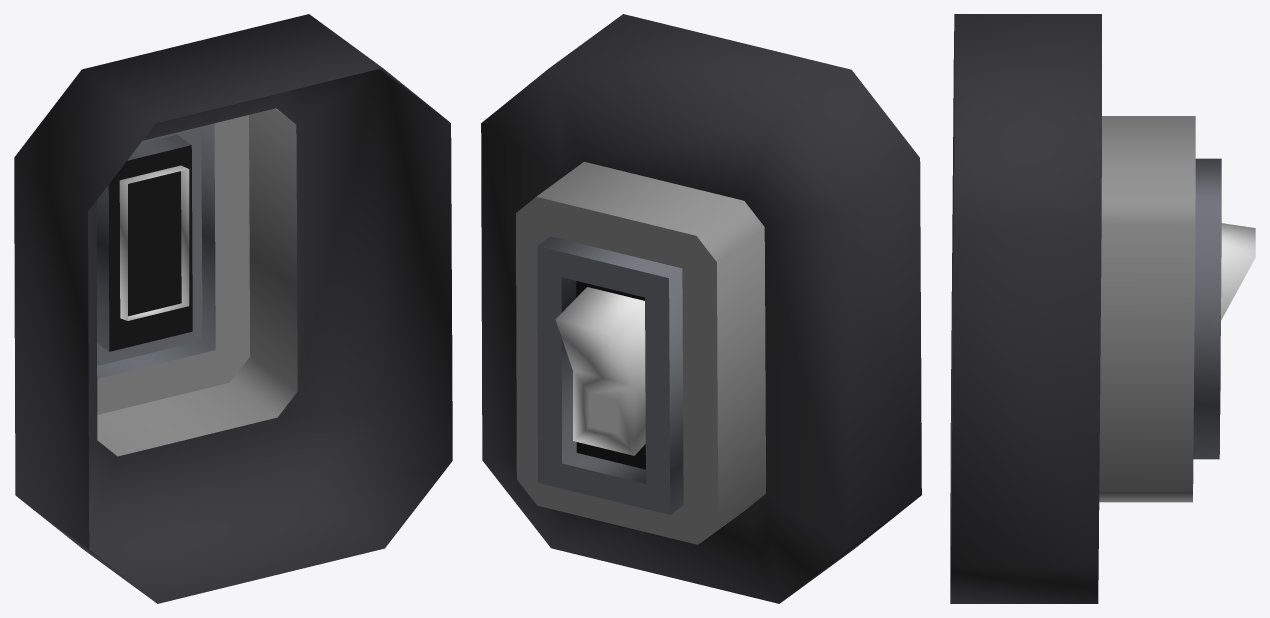
The model's file is LightSwitch.fbx.
The picture shows the model from 3 angles, left to right: view 1: azimuth 30°, elevation 25°; view 2: azimuth 150°, elevation 25°; view 3: azimuth 270°, elevation 25°; orthographic projection.
Parts seen in each view (by area): view 1: LightSwitch; view 2: LightSwitch; view 3: LightSwitch.
Boxes of the visible parts, bbox=[...] form: LightSwitch: bbox=[14, 14, 452, 603]; LightSwitch: bbox=[481, 14, 921, 603]; LightSwitch: bbox=[950, 14, 1255, 603].
Bounding box in the file's own units: 0.2229 × 0.2807 × 0.1619.
